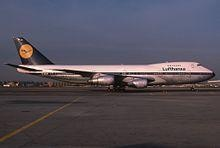airplane: (7, 40, 212, 88)
